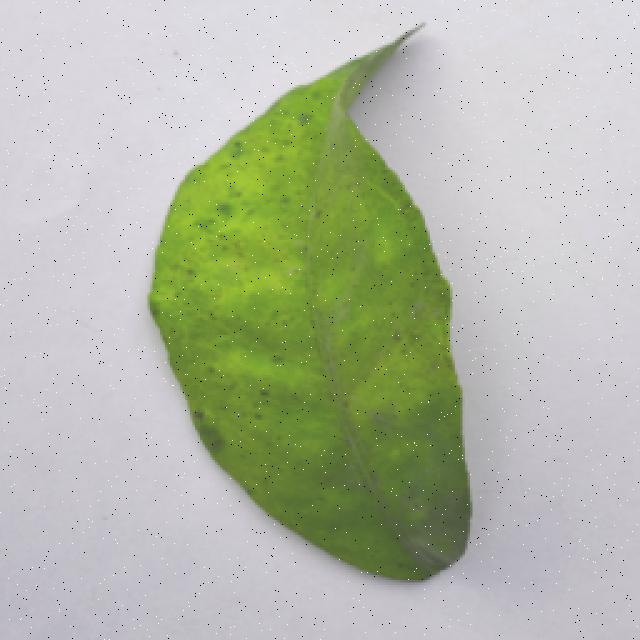blackspot: (145, 18, 520, 588)
